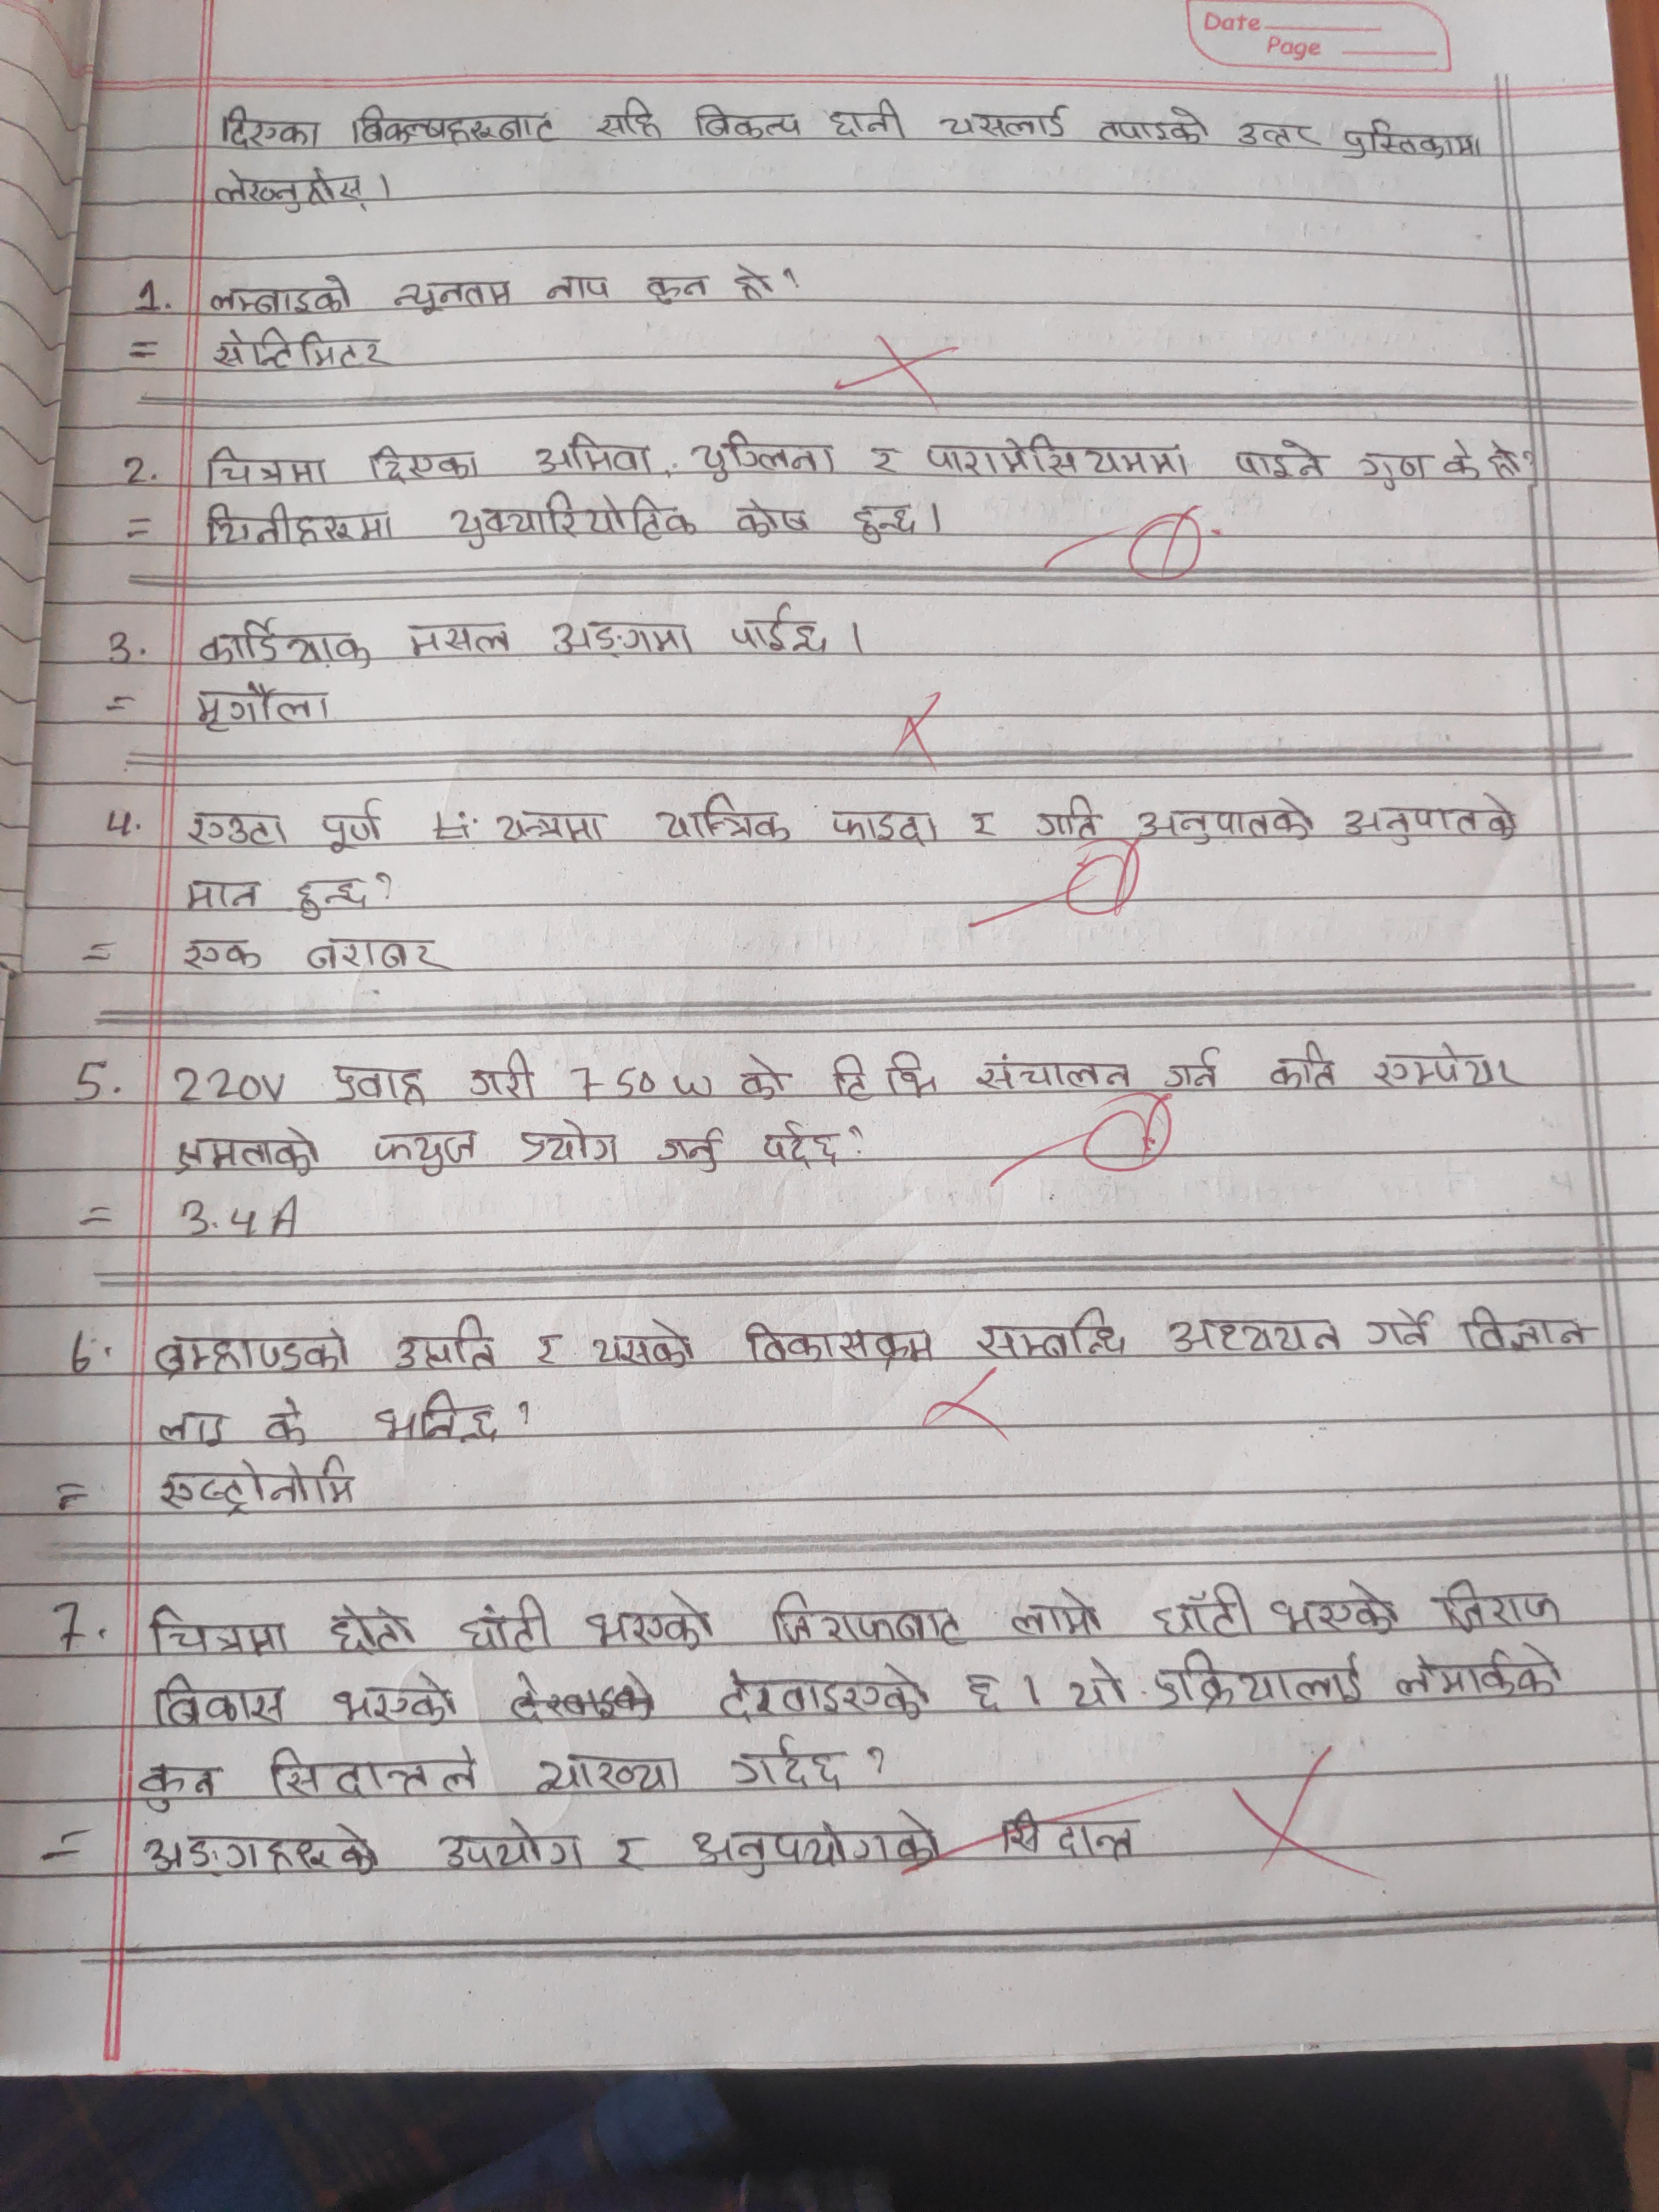text: (687, 1808, 945, 1881), (448, 484, 701, 549), (1147, 1648, 1370, 1712), (139, 1822, 380, 1881), (924, 432, 1194, 484), (152, 1456, 362, 1521), (716, 1665, 932, 1728), (765, 1587, 972, 1648), (267, 1743, 479, 1801), (153, 1325, 356, 1385), (1392, 1639, 1563, 1703), (739, 1313, 941, 1367), (1342, 791, 1521, 848), (1134, 796, 1323, 850), (209, 324, 396, 376), (200, 615, 371, 671), (202, 500, 396, 549), (349, 103, 556, 148), (647, 787, 796, 848), (437, 1818, 591, 1876), (580, 1590, 720, 1653), (145, 1604, 291, 1663), (997, 1804, 1143, 1864), (1169, 1310, 1345, 1359), (362, 1388, 502, 1449), (322, 1669, 462, 1730), (152, 1670, 289, 1731), (974, 1308, 1133, 1359), (211, 165, 375, 214), (1269, 1578, 1403, 1637), (1373, 1040, 1525, 1092), (192, 679, 333, 735), (725, 1733, 852, 1794), (694, 427, 836, 481), (1459, 1303, 1595, 1359), (171, 1129, 321, 1179), (528, 1752, 687, 1799), (204, 272, 350, 320), (397, 1315, 507, 1379), (547, 615, 697, 662), (972, 1052, 1134, 1094), (1439, 1578, 1567, 1630), (1342, 118, 1486, 164), (458, 1588, 554, 1656), (1147, 1581, 1262, 1637), (307, 930, 450, 974), (512, 1118, 627, 1172), (934, 99, 1068, 145), (828, 1050, 943, 1103), (206, 442, 329, 489), (369, 1129, 484, 1179), (1094, 103, 1213, 152), (727, 604, 833, 658), (594, 1317, 697, 1372), (383, 275, 514, 319), (528, 432, 659, 475), (368, 442, 488, 488), (830, 808, 945, 855), (688, 98, 807, 143), (331, 1059, 434, 1109), (321, 1606, 420, 1658), (1011, 1585, 1105, 1639), (220, 103, 322, 152), (138, 1757, 221, 1813), (1065, 1651, 1134, 1717), (403, 620, 512, 660), (756, 1120, 845, 1169), (467, 1050, 542, 1108), (1234, 434, 1324, 481), (1263, 1040, 1342, 1094), (495, 808, 608, 845), (186, 810, 288, 850), (293, 874, 371, 923), (319, 799, 382, 857), (650, 1125, 727, 1172), (824, 98, 906, 141), (178, 873, 267, 913), (732, 498, 810, 543), (850, 496, 918, 547), (181, 937, 265, 977), (594, 98, 664, 143), (1363, 1306, 1438, 1348), (1161, 1045, 1227, 1092), (153, 1409, 234, 1447), (1028, 798, 1101, 840), (732, 1049, 789, 1101), (1232, 118, 1317, 153), (641, 268, 713, 308), (1361, 451, 1429, 493), (260, 1395, 314, 1447), (540, 270, 612, 301), (606, 1824, 647, 1879), (1441, 435, 1483, 488), (960, 1670, 1007, 1716), (528, 1332, 577, 1371), (732, 261, 772, 305), (1485, 441, 1523, 486), (866, 441, 906, 479), (965, 810, 1004, 838)
